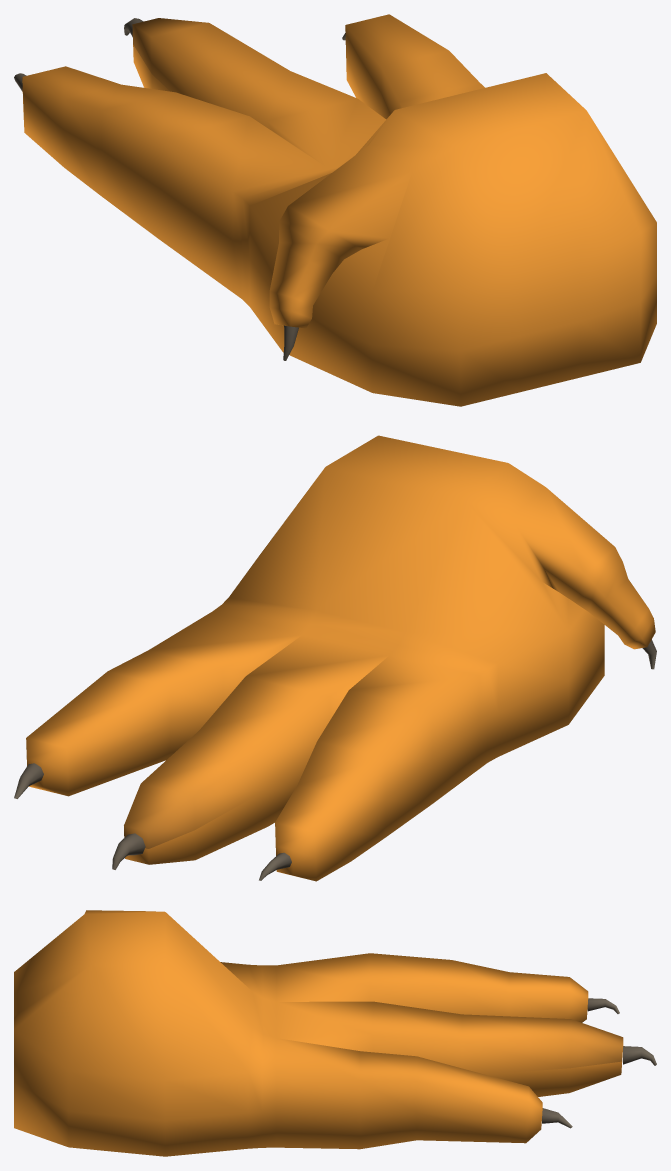
Rendered from PataDeGalinha.fbx.
The picture shows the model from 3 angles, top to bottom: view 1: azimuth 30°, elevation 25°; view 2: azimuth 150°, elevation 25°; view 3: azimuth 270°, elevation 25°; orthographic projection. The views are drawn at different scales.
Parts seen in each view (by area): view 1: PataDeGalinha; view 2: PataDeGalinha; view 3: PataDeGalinha.
Boxes of the visible parts, x1,y1,x2,y2 form: PataDeGalinha: [14, 14, 656, 406]; PataDeGalinha: [14, 435, 656, 881]; PataDeGalinha: [14, 910, 656, 1156].
Size of the model in its own units: 20.9 by 10.93 by 39.13.
